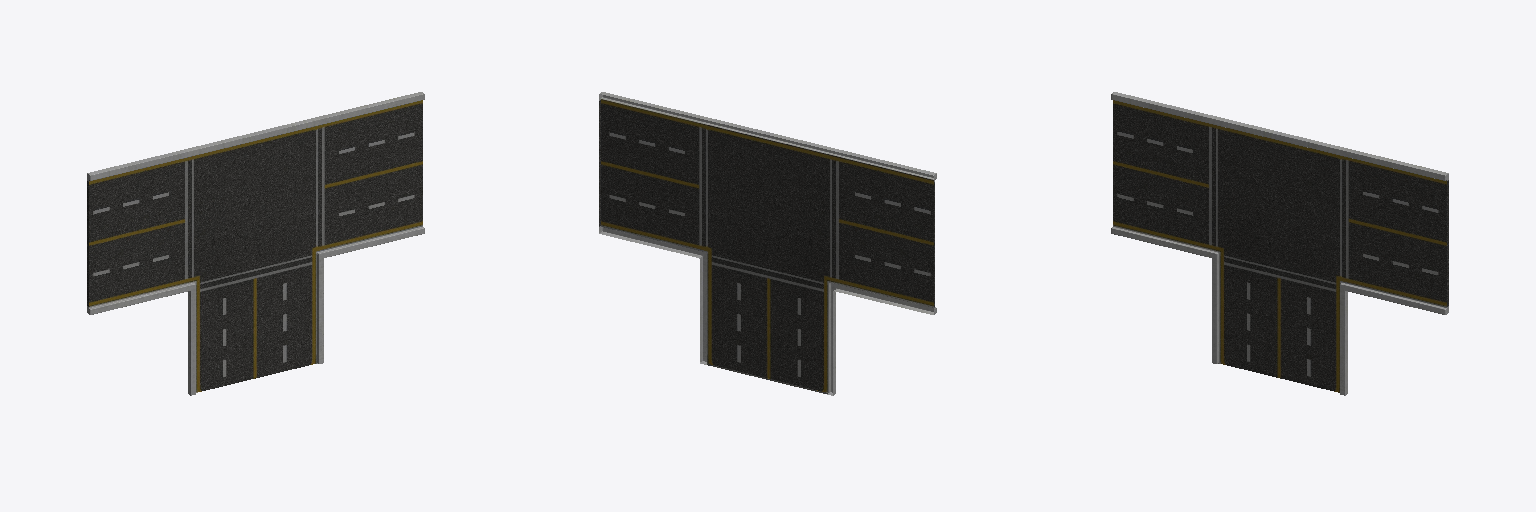
The picture shows the model from 3 angles: view 1: azimuth 30°, elevation 25°; view 2: azimuth 150°, elevation 25°; view 3: azimuth 330°, elevation 25°; orthographic projection.
Parts seen in each view (by area): view 1: RoadSectionT; view 2: RoadSectionT; view 3: RoadSectionT.
Boxes of the visible parts, box(x1,y1,x2,y2) form: RoadSectionT: box(87, 92, 424, 395); RoadSectionT: box(599, 92, 936, 395); RoadSectionT: box(1111, 92, 1448, 395).
Bounding box in the file's own units: 1829 × 1280 × 30.48.
1 materials, 1 textured.